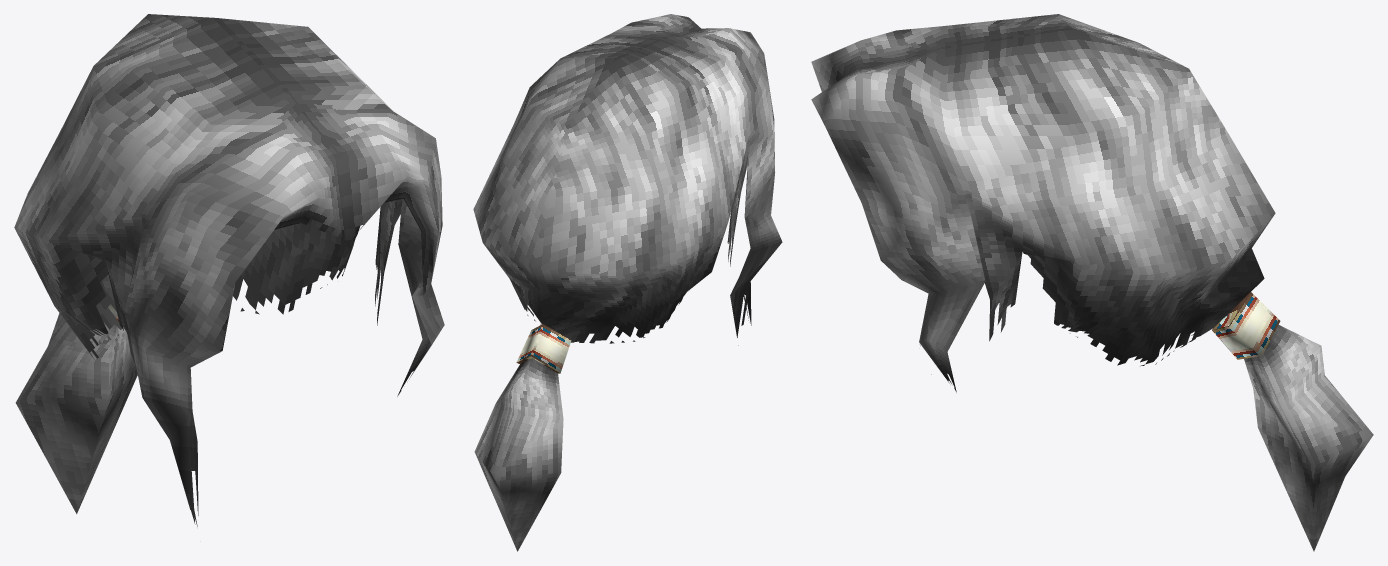
The model's file is m_hair023.obj.
3 views of the same model, side by side, from view 1: azimuth 30°, elevation 25°; view 2: azimuth 150°, elevation 25°; view 3: azimuth 270°, elevation 25° (orthographic). The views are drawn at different scales.
Visible parts, largest first — view 1: editpl_m-0000-1815; view 2: editpl_m-0000-1815, editpl_m-0000-1816; view 3: editpl_m-0000-1815, editpl_m-0000-1816.
Boxes of the visible parts, x1=… form: editpl_m-0000-1815: x1=14, y1=14, x2=444, y2=526; editpl_m-0000-1815: x1=473, y1=14, x2=782, y2=551; editpl_m-0000-1816: x1=516, y1=324, x2=571, y2=373; editpl_m-0000-1815: x1=811, y1=14, x2=1373, y2=551; editpl_m-0000-1816: x1=1212, y1=292, x2=1280, y2=359.
Bounding box in the file's own units: 18.04 × 31.18 × 30.36.
1 material, 1 textured.
